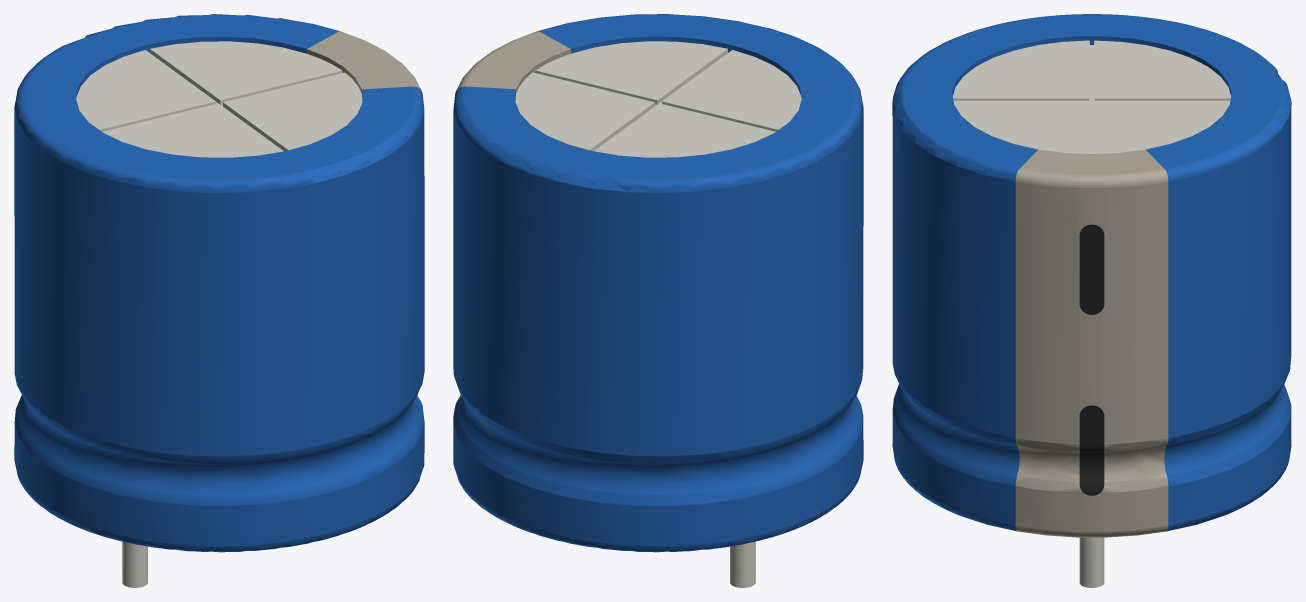
Rendered from kc-cp_radial_d8.0mm_p3.80mm.glb.
The picture shows the model from 3 angles, left to right: view 1: azimuth 30°, elevation 25°; view 2: azimuth 150°, elevation 25°; view 3: azimuth 270°, elevation 25°; orthographic projection. The views are drawn at different scales.
Visible parts, largest first — view 1: 0_0.16666666666666666_0.5_0, 0.6666666666666666_0.6666666666666666_0.5833333333333334_0.8, 0.4166666666666667_0.4166666666666667_0.3333333333333333_0; view 2: 0_0.16666666666666666_0.5_0, 0.6666666666666666_0.6666666666666666_0.5833333333333334_0.8, 0.4166666666666667_0.4166666666666667_0.3333333333333333_0; view 3: 0_0.16666666666666666_0.5_0, 0.4166666666666667_0.4166666666666667_0.3333333333333333_0, 0.6666666666666666_0.6666666666666666_0.5833333333333334_0.8, 0_0_0_0.
Part boxes in pixels (x1,y1,x2,y2): 0_0.16666666666666666_0.5_0: (14,14,424,552); 0.6666666666666666_0.6666666666666666_0.5833333333333334_0.8: (76,41,362,587); 0.4166666666666667_0.4166666666666667_0.3333333333333333_0: (307,31,421,400); 0_0.16666666666666666_0.5_0: (453,14,863,552); 0.6666666666666666_0.6666666666666666_0.5833333333333334_0.8: (515,41,801,587); 0.4166666666666667_0.4166666666666667_0.3333333333333333_0: (457,31,570,399); 0_0.16666666666666666_0.5_0: (892,14,1291,531); 0.4166666666666667_0.4166666666666667_0.3333333333333333_0: (1015,149,1168,537); 0.6666666666666666_0.6666666666666666_0.5833333333333334_0.8: (953,40,1230,587); 0_0_0_0: (1079,224,1104,495).
Bounding box in the file's own units: 0.8 × 1 × 0.7998.
